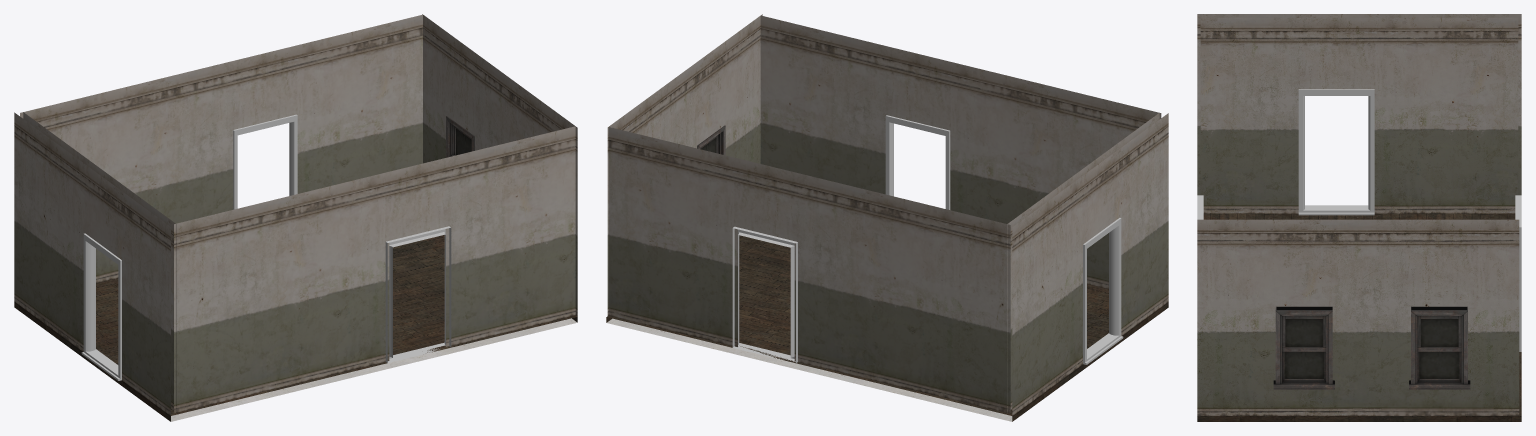
File: room_windows_6m_x_9m_2_doors.fbx
3 views of the same model, side by side, from view 1: azimuth 30°, elevation 25°; view 2: azimuth 150°, elevation 25°; view 3: azimuth 270°, elevation 25° (orthographic). The views are drawn at different scales.
Visible parts, largest first — view 1: room_windows_6m_x_9m_2_doors; view 2: room_windows_6m_x_9m_2_doors; view 3: room_windows_6m_x_9m_2_doors.
Boxes of the visible parts, x1,y1,x2,y2 form: room_windows_6m_x_9m_2_doors: (14,14,577,421); room_windows_6m_x_9m_2_doors: (606,14,1168,421); room_windows_6m_x_9m_2_doors: (1197,14,1521,421).
Size of the model in its own units: 930 by 412 by 600.
